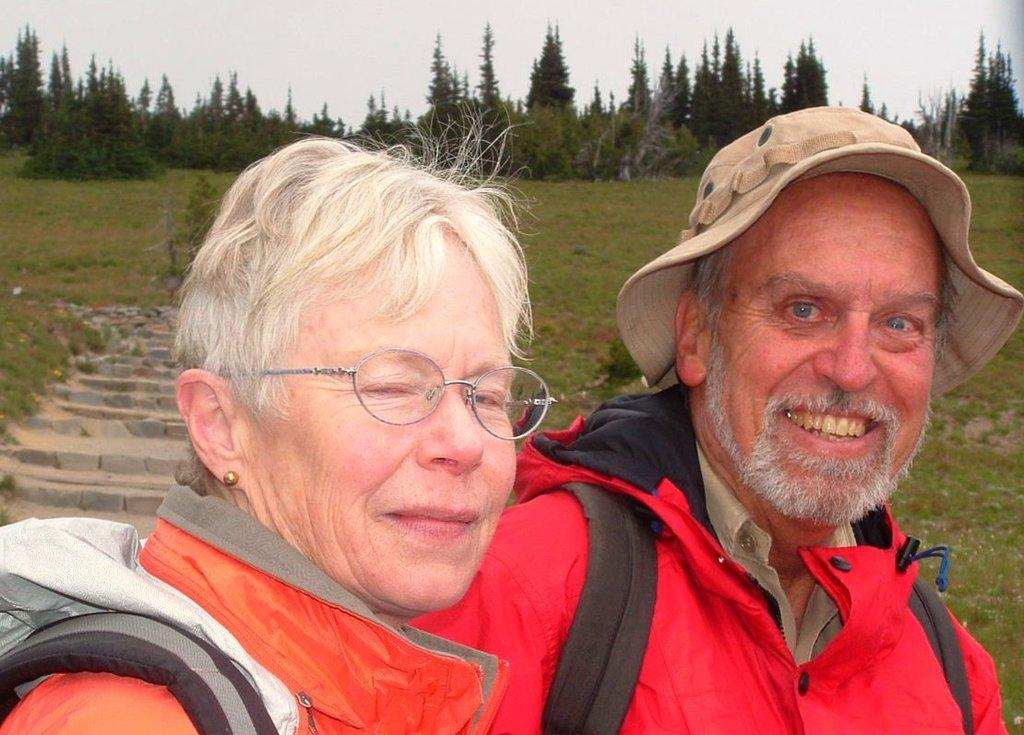Hat: (614, 102, 1023, 391)
